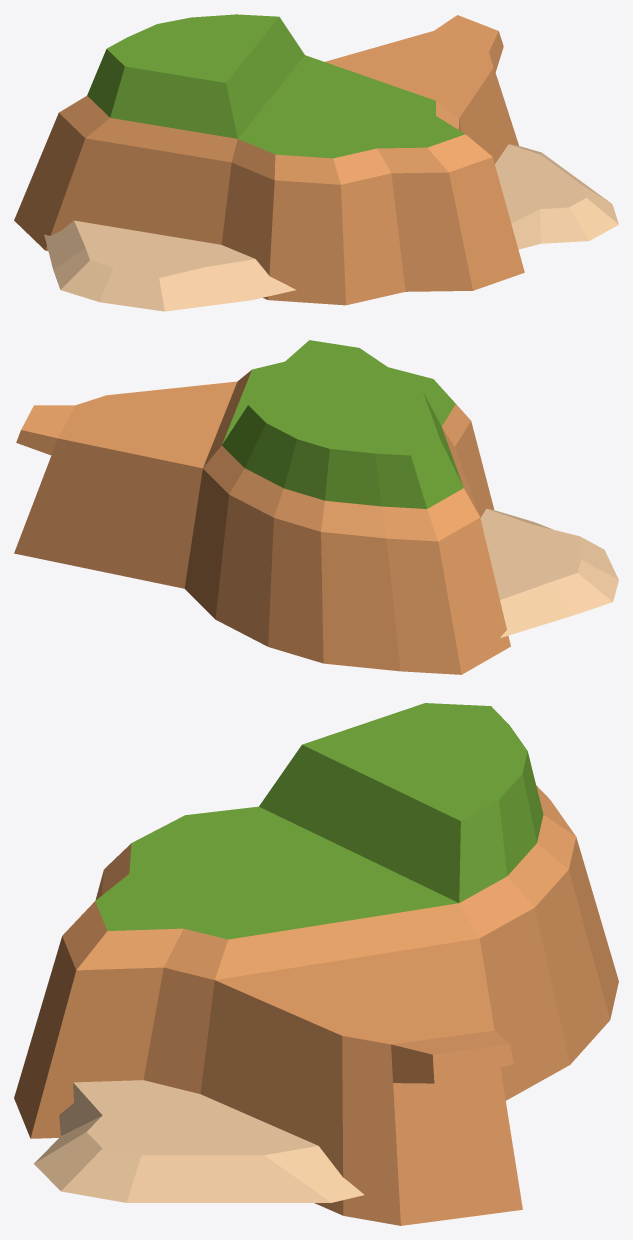
Rendered from Ostrvo_03.fbx.
3 renders of one model, top to bottom at view 1: azimuth 30°, elevation 25°; view 2: azimuth 150°, elevation 25°; view 3: azimuth 270°, elevation 25°, orthographic. The views are drawn at different scales.
Parts seen in each view (by area): view 1: Circle, Circle.002, Circle.001; view 2: Circle, Circle.002; view 3: Circle, Circle.001.
Boxes of the visible parts, box(x1,y1,x2,y2) form: Circle: box(14, 14, 524, 305); Circle.002: box(44, 220, 295, 311); Circle.001: box(495, 144, 618, 249); Circle: box(14, 340, 510, 674); Circle.002: box(480, 508, 618, 637); Circle: box(14, 703, 618, 1225); Circle.001: box(34, 1080, 364, 1202).
Bounding box in the file's own units: 906 × 296 × 654.
